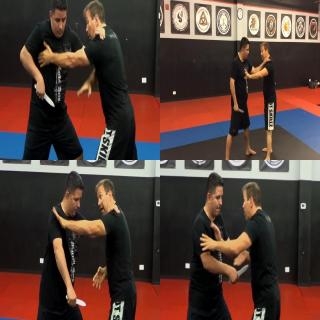knife: (34, 82, 54, 108), (227, 262, 249, 284), (65, 293, 87, 307), (232, 105, 245, 113)
